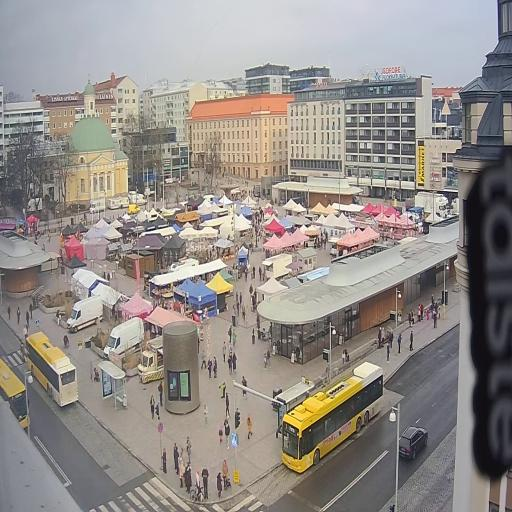bus: (282, 362, 383, 472), (26, 331, 78, 406), (0, 359, 28, 428), (399, 426, 428, 459)
car: (399, 426, 428, 459)
delivery: (104, 317, 143, 358), (67, 296, 103, 332), (138, 337, 163, 383), (415, 192, 449, 217)
two-wheels: (191, 471, 205, 502)
